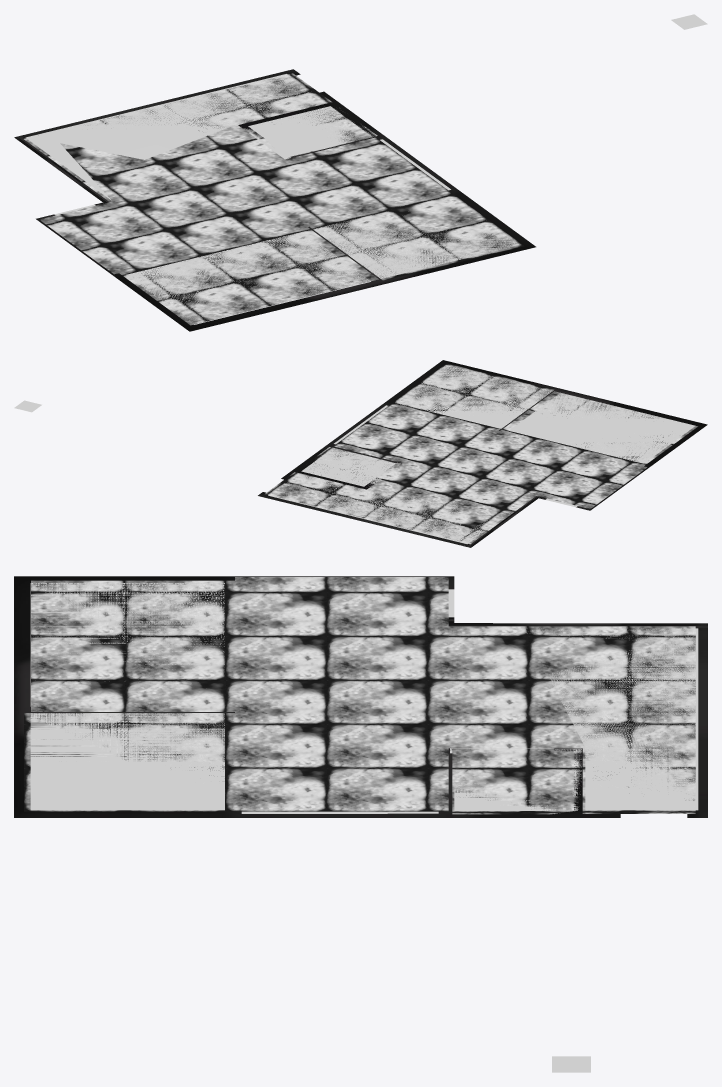
Rendered from cottage.FBX.
3 views of the same model, one above another, from view 1: azimuth 30°, elevation 25°; view 2: azimuth 150°, elevation 25°; view 3: azimuth 270°, elevation 25° (orthographic). The views are drawn at different scales.
Visible parts, largest first — view 1: cottage_hall_floor, cottage_sittingroom_floor, cottage_kitchen_floor, cottage_kitchen_floor_ambient, cottage_study_floor, walls, cottage_sittingroom_floor_ambient, cottage_study_floor_ambient, cottage_pantry_floor_ambient, cottage_pantry_floor; view 2: cottage_hall_floor, cottage_kitchen_floor, cottage_sittingroom_floor_ambient, cottage_study_floor, cottage_study_floor_ambient, cottage_kitchen_floor_ambient, walls, cottage_pantry_floor_ambient, cottage_sittingroom_floor, cottage_pantry_floor; view 3: cottage_hall_floor, cottage_kitchen_floor, cottage_sittingroom_floor, cottage_study_floor_ambient, cottage_kitchen_floor_ambient, walls, cottage_study_floor, cottage_pantry_floor, cottage_sittingroom_floor_ambient, cottage_pantry_floor_ambient, cottage_hall_floor_ambient.
Boxes of the visible parts, left/top/right/bottom form: cottage_hall_floor: left=39, top=137, right=450, bottom=274; cottage_sittingroom_floor: left=119, top=227, right=378, bottom=325; cottage_kitchen_floor: left=24, top=73, right=331, bottom=201; cottage_kitchen_floor_ambient: left=25, top=74, right=321, bottom=200; cottage_study_floor: left=310, top=192, right=524, bottom=280; walls: left=14, top=69, right=535, bottom=331; cottage_sittingroom_floor_ambient: left=126, top=232, right=370, bottom=324; cottage_study_floor_ambient: left=313, top=213, right=518, bottom=278; cottage_pantry_floor_ambient: left=248, top=106, right=361, bottom=157; cottage_pantry_floor: left=243, top=106, right=377, bottom=157; cottage_hall_floor: left=333, top=404, right=646, bottom=508; cottage_kitchen_floor: left=265, top=463, right=535, bottom=544; cottage_sittingroom_floor_ambient: left=509, top=392, right=695, bottom=463; cottage_study_floor: left=390, top=363, right=554, bottom=430; cottage_study_floor_ambient: left=395, top=365, right=551, bottom=428; cottage_kitchen_floor_ambient: left=268, top=462, right=509, bottom=544; walls: left=258, top=360, right=707, bottom=547; cottage_pantry_floor_ambient: left=301, top=448, right=398, bottom=486; cottage_sittingroom_floor: left=500, top=391, right=697, bottom=466; cottage_pantry_floor: left=308, top=447, right=400, bottom=486; cottage_hall_floor: left=235, top=577, right=448, bottom=811; cottage_kitchen_floor: left=448, top=626, right=695, bottom=813; cottage_sittingroom_floor: left=31, top=580, right=234, bottom=711; cottage_study_floor_ambient: left=30, top=713, right=224, bottom=810; cottage_kitchen_floor_ambient: left=450, top=628, right=698, bottom=810; walls: left=14, top=576, right=707, bottom=817; cottage_study_floor: left=24, top=713, right=234, bottom=811; cottage_pantry_floor: left=452, top=748, right=581, bottom=814; cottage_sittingroom_floor_ambient: left=30, top=583, right=224, bottom=705; cottage_pantry_floor_ambient: left=454, top=748, right=559, bottom=810; cottage_hall_floor_ambient: left=241, top=589, right=454, bottom=813.
Size of the model in its own units: 2098 by 9 by 1250.
